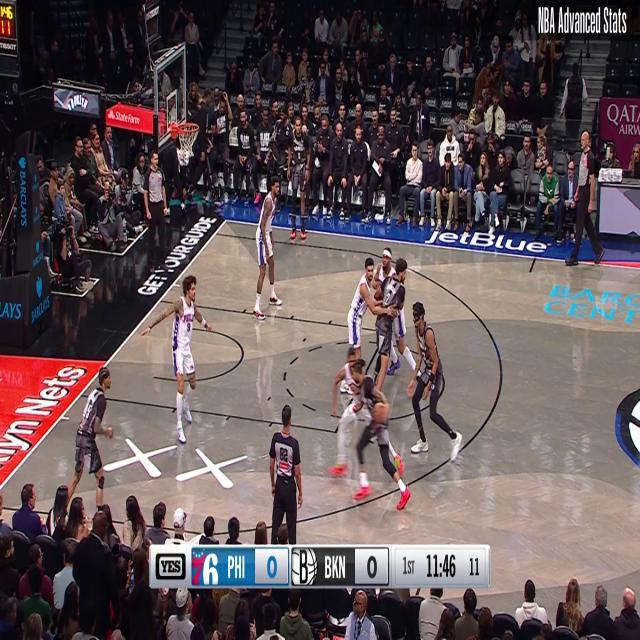ball: (372, 399, 390, 429)
player: (139, 272, 213, 446), (346, 356, 412, 512), (55, 365, 115, 527), (330, 349, 406, 476), (406, 300, 464, 463), (376, 249, 422, 385), (252, 173, 284, 322), (372, 263, 408, 395), (282, 114, 312, 246), (346, 254, 374, 366)
